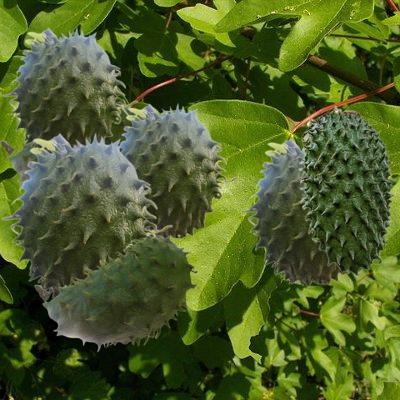guyabano: (1, 131, 172, 298), (34, 235, 196, 351), (2, 26, 137, 151), (240, 137, 350, 286), (298, 105, 394, 275), (120, 102, 238, 239), (0, 103, 133, 186)
